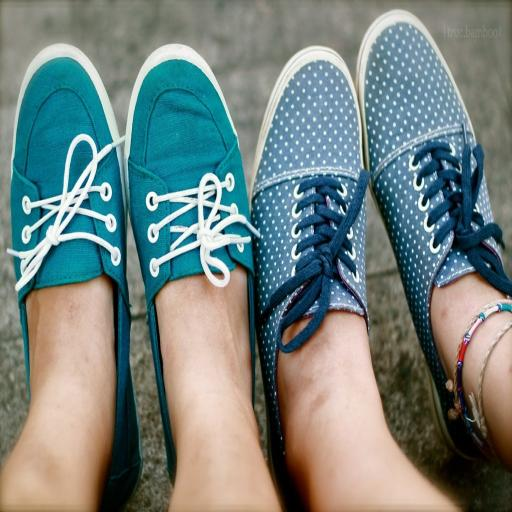shoe: (356, 11, 512, 458), (9, 44, 142, 510), (125, 44, 255, 481), (251, 46, 369, 510)
